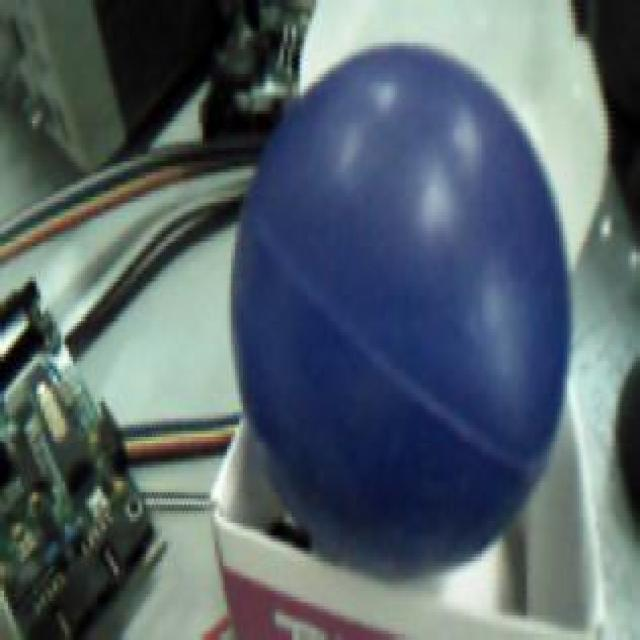BallPurple: (231, 48, 570, 582)
